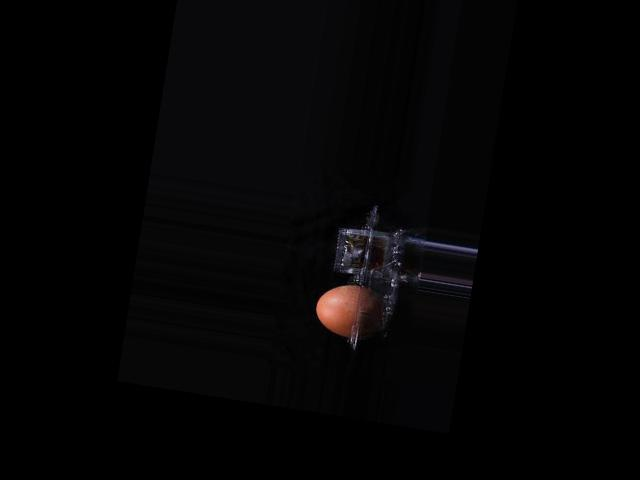egg: (312, 281, 388, 343)
